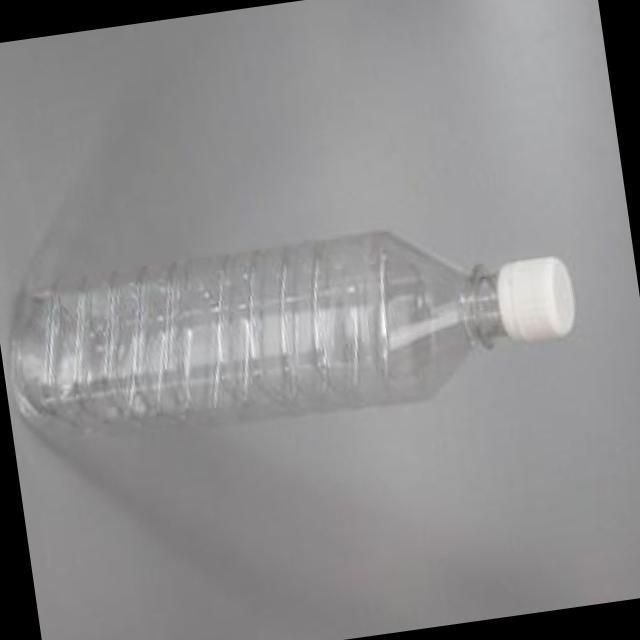good: (0, 162, 613, 498)
